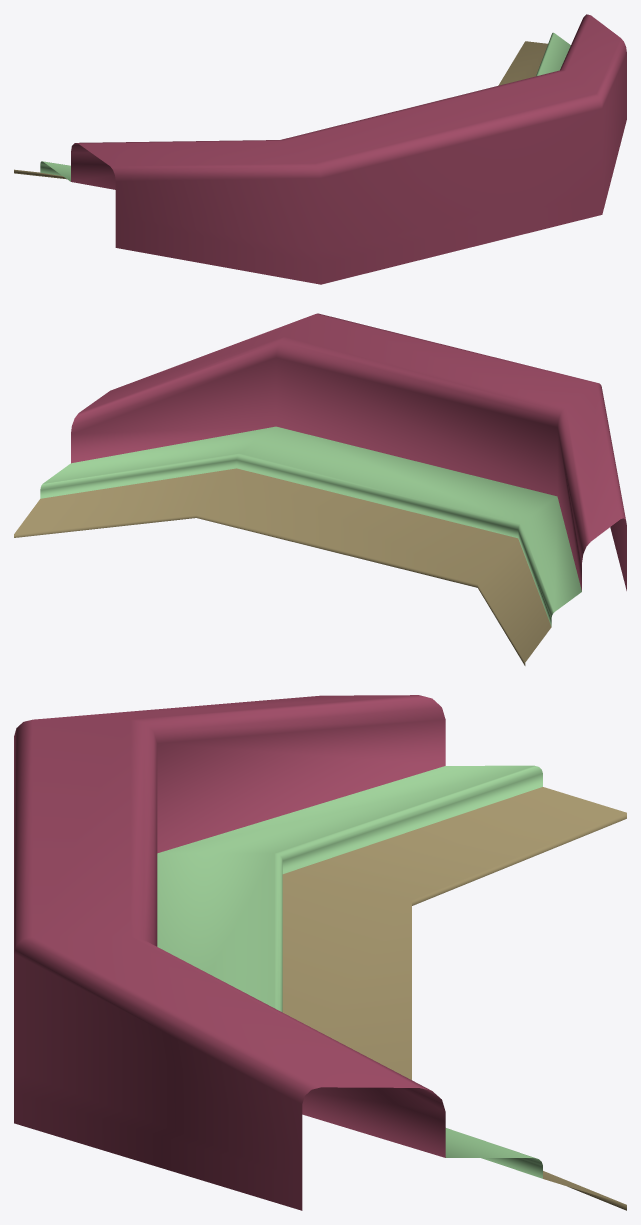
Rendered from Stadium_SideHigh.fbx.
3 renders of one model, top to bottom at view 1: azimuth 30°, elevation 25°; view 2: azimuth 150°, elevation 25°; view 3: azimuth 270°, elevation 25°, orthographic. The views are drawn at different scales.
Visible parts, largest first — view 1: Stadiym_SideHigh; view 2: Stadiym_SideHigh; view 3: Stadiym_SideHigh.
Part boxes in pixels (<box>): Stadiym_SideHigh: <box>14,14,626,284</box>; Stadiym_SideHigh: <box>14,313,626,665</box>; Stadiym_SideHigh: <box>14,695,626,1210</box>.
Bounding box in the file's own units: 2220 × 495 × 1442.
